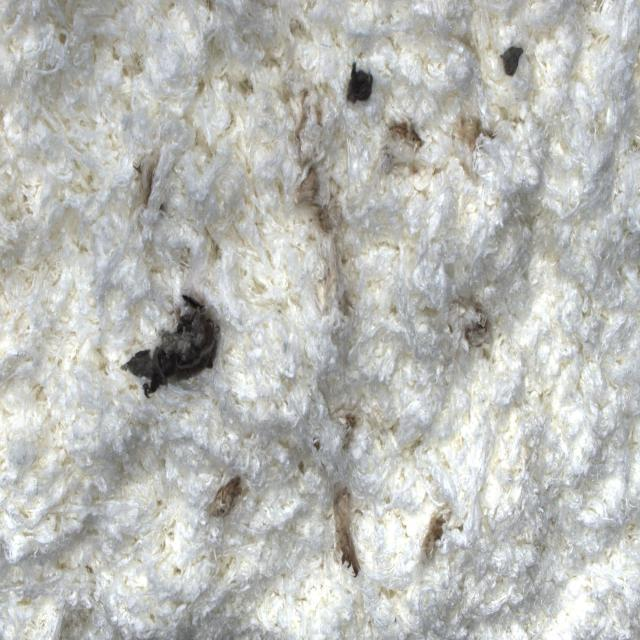dust: (117, 289, 225, 406), (196, 444, 254, 551), (451, 266, 503, 384), (292, 133, 342, 245), (406, 488, 455, 580), (326, 484, 368, 582), (440, 108, 500, 171), (491, 21, 529, 99), (127, 152, 168, 223), (385, 113, 431, 160), (343, 58, 376, 106)
